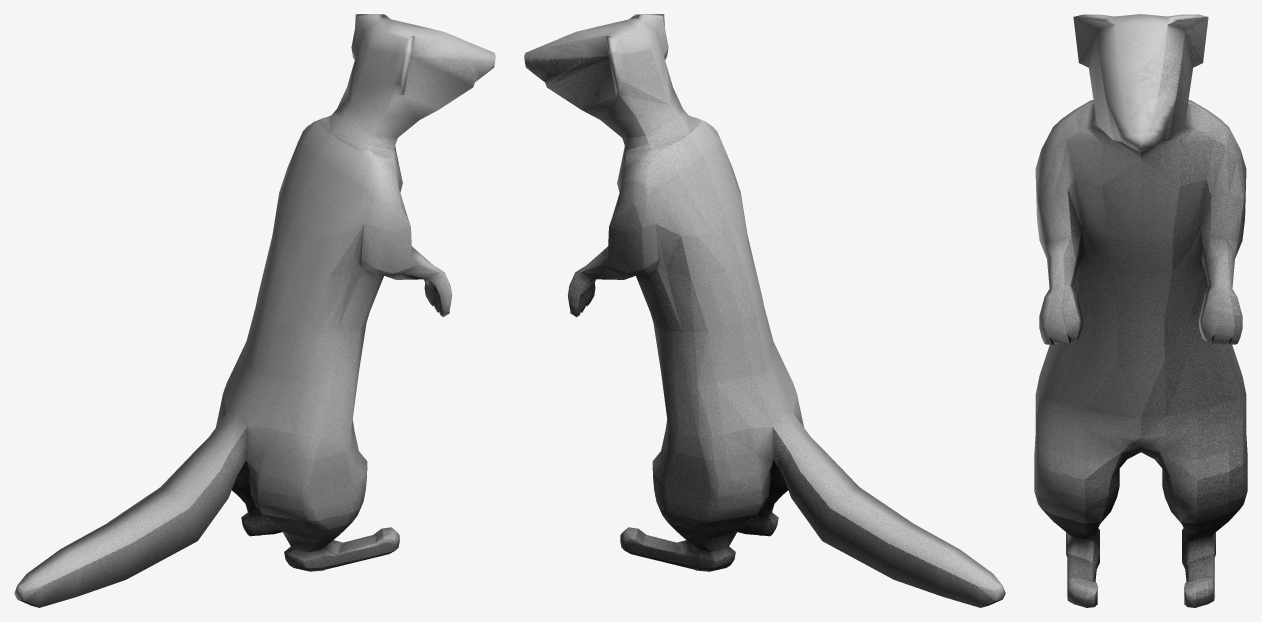
Rendered from hermine.fbx.
3 renders of one model, left to right at view 1: azimuth 30°, elevation 25°; view 2: azimuth 150°, elevation 25°; view 3: azimuth 270°, elevation 25°, orthographic. The views are drawn at different scales.
Parts seen in each view (by area): view 1: hermine; view 2: hermine; view 3: hermine.
Part boxes in pixels (x1,y1,x2,y2): hermine: [14, 14, 495, 607]; hermine: [524, 14, 1005, 607]; hermine: [1034, 14, 1247, 607].
Size of the model in its own units: 0.8806 by 0.8777 by 0.2804.
